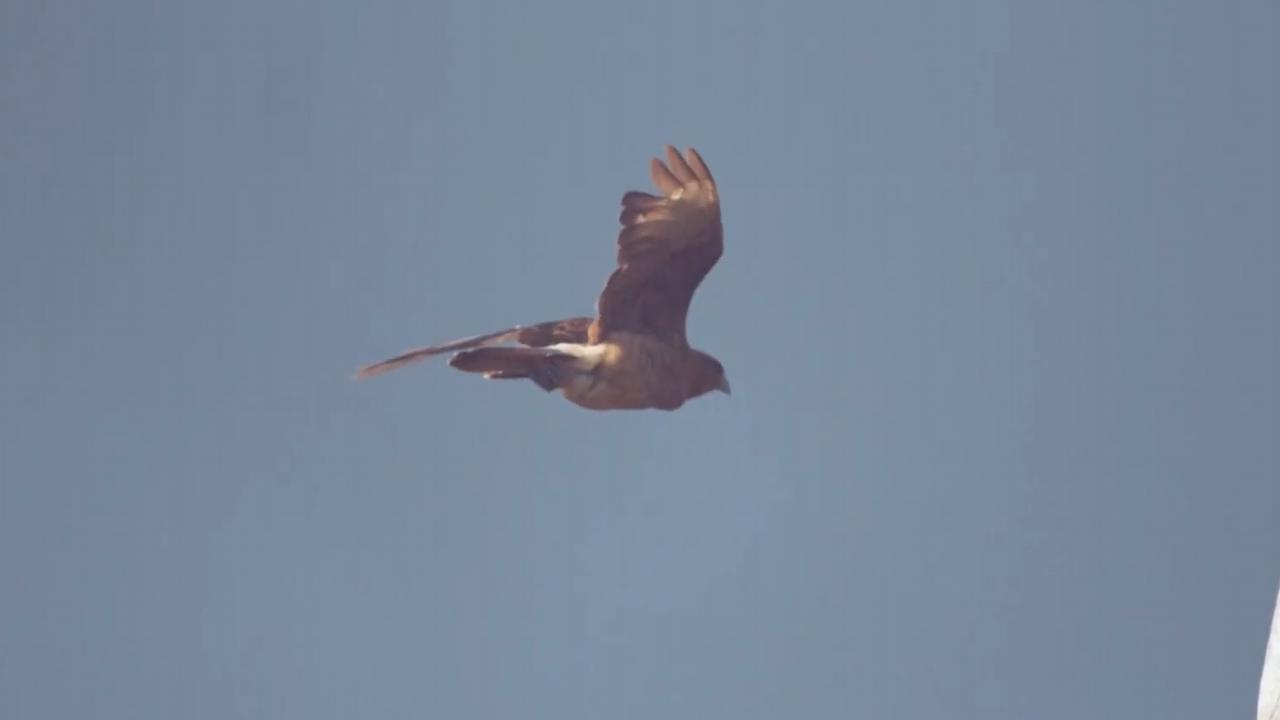Bird: (339, 135, 744, 427)
